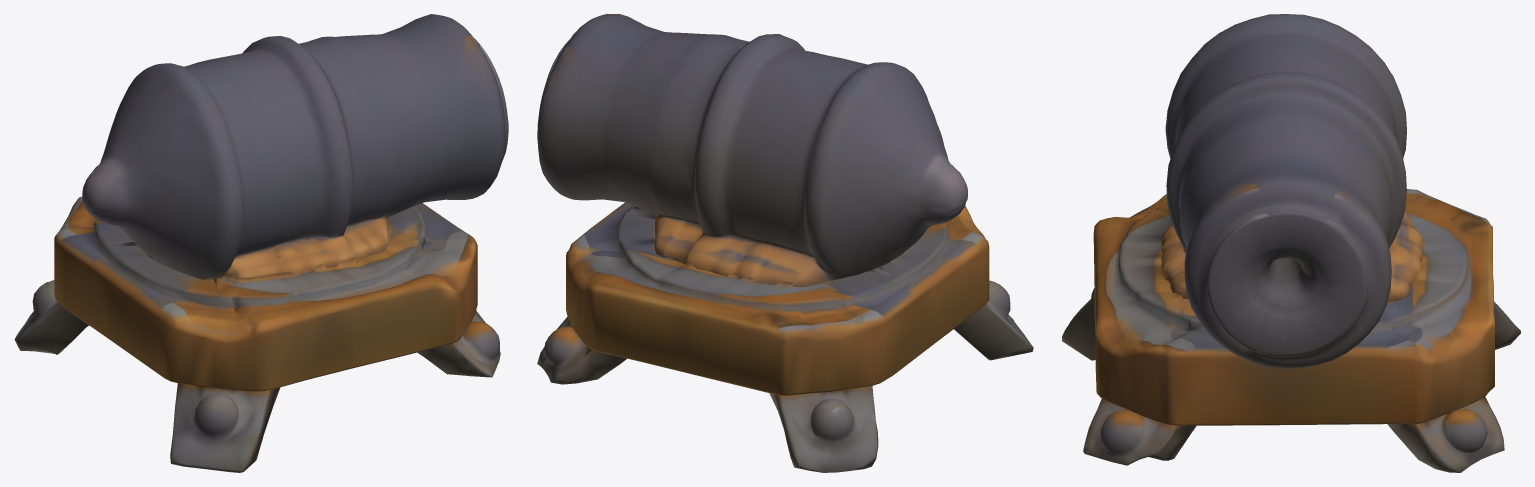
Rendered from cannon-segmented.glb.
3 views of the same model, side by side, from view 1: azimuth 30°, elevation 25°; view 2: azimuth 150°, elevation 25°; view 3: azimuth 270°, elevation 25° (orthographic). The views are drawn at different scales.
Parts seen in each view (by area): view 1: than_phao, de_phao, tripo_part_4, tripo_part_5, tripo_part_3; view 2: than_phao, de_phao, tripo_part_5, tripo_part_4, tripo_part_2; view 3: than_phao, de_phao, tripo_part_2, tripo_part_3, tripo_part_4, tripo_part_5.
Part boxes in pixels (left/top/right/bottom): than_phao: left=82, top=14, right=508, bottom=293; de_phao: left=54, top=197, right=477, bottom=391; tripo_part_4: left=170, top=383, right=280, bottom=472; tripo_part_5: left=14, top=280, right=88, bottom=354; tripo_part_3: left=417, top=311, right=500, bottom=377; than_phao: left=537, top=14, right=967, bottom=286; de_phao: left=566, top=202, right=989, bottom=395; tripo_part_5: left=769, top=386, right=878, bottom=472; tripo_part_4: left=954, top=280, right=1033, bottom=360; tripo_part_2: left=537, top=317, right=626, bottom=384; than_phao: left=1161, top=14, right=1423, bottom=368; de_phao: left=1093, top=189, right=1494, bottom=425; tripo_part_2: left=1387, top=396, right=1504, bottom=472; tripo_part_3: left=1083, top=398, right=1196, bottom=465; tripo_part_4: left=1062, top=288, right=1095, bottom=360; tripo_part_5: left=1494, top=301, right=1520, bottom=349.
Size of the model in its own units: 0.9981 by 0.7949 by 0.9355.
Materials: 6 (6 with a texture image).
